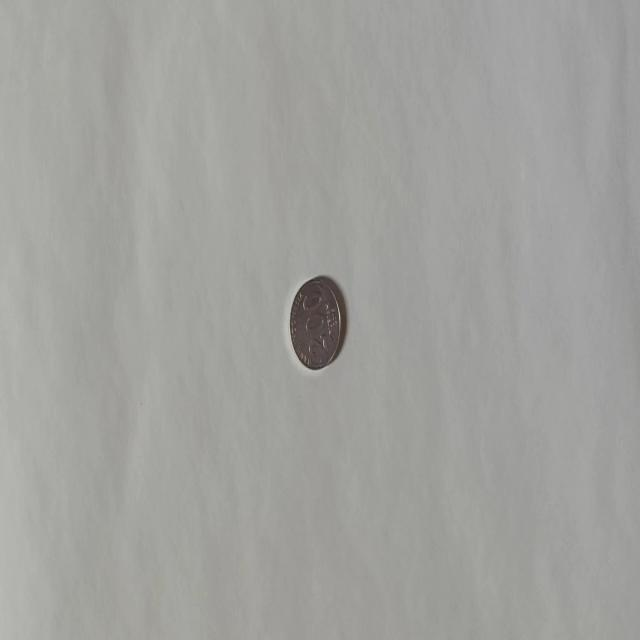dua ratus rupiah: (288, 274, 342, 370)
